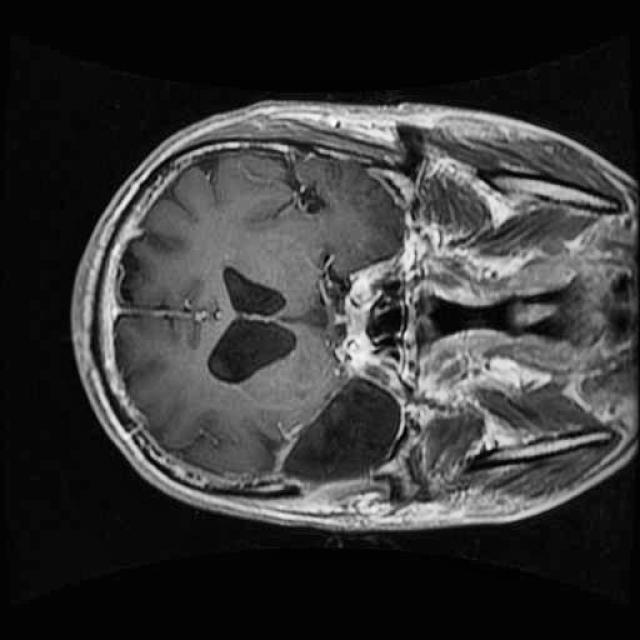Tumor: (266, 353, 420, 508)
